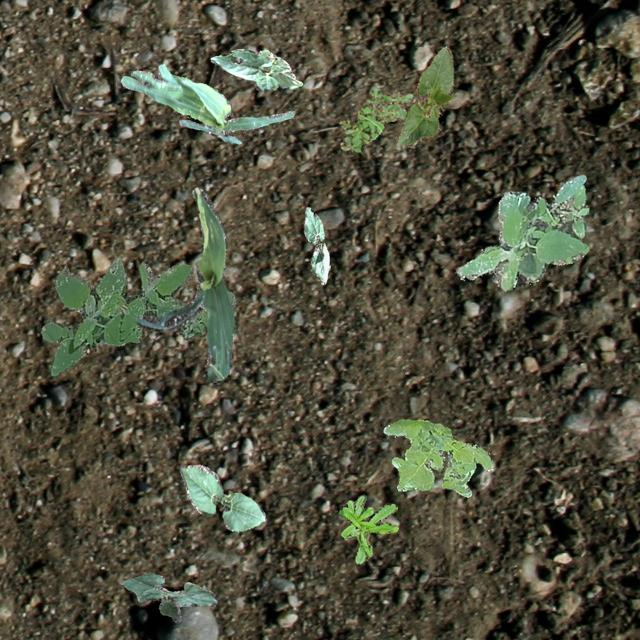crop: (134, 186, 233, 382), (120, 62, 292, 142), (394, 46, 452, 148), (178, 464, 264, 530), (118, 572, 216, 622), (210, 48, 302, 90), (302, 206, 330, 284)
weed: (39, 256, 234, 376), (454, 174, 588, 290), (382, 418, 492, 497), (338, 88, 412, 152), (338, 493, 398, 562)
